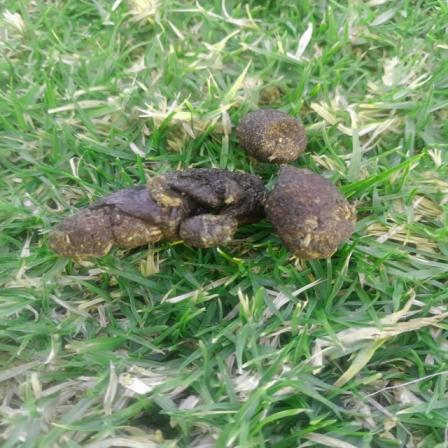dog-poop: (47, 149, 261, 260), (264, 169, 367, 263), (239, 102, 299, 164)
